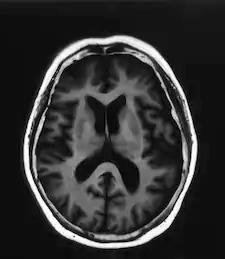Normal_Brain: (8, 1, 225, 259)
